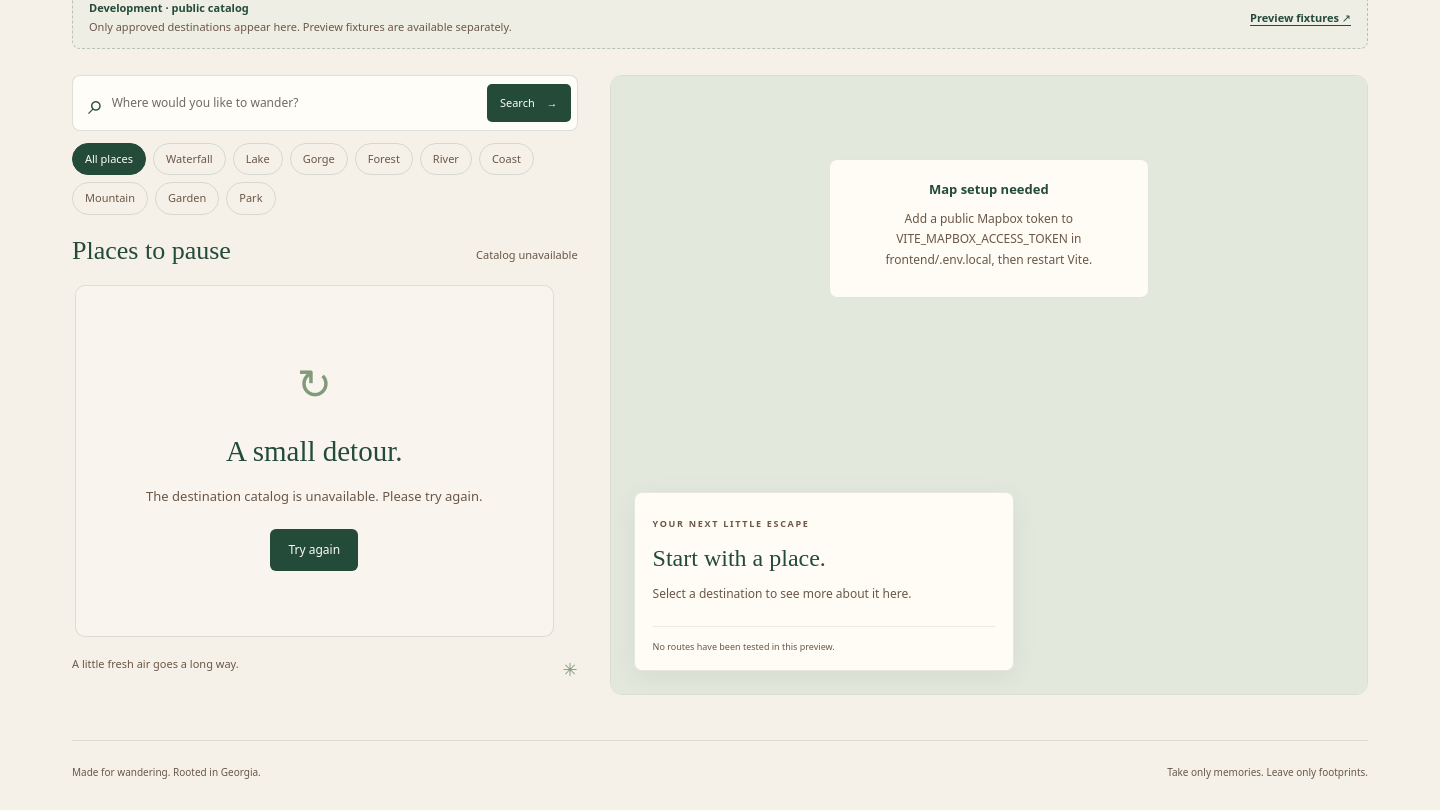
Explore › shows loading and error states, then retries successfully
The width and height of the screenshot is (1440, 810).
(page scrolled)
Expected: the message named "Loading destinations" is shown, 75,285 -> 554,637
Expected: the heading "A small detour." is shown, 226,435 -> 402,467
Click the button "Try again" at x=314, y=550, box 270,529 -> 358,571
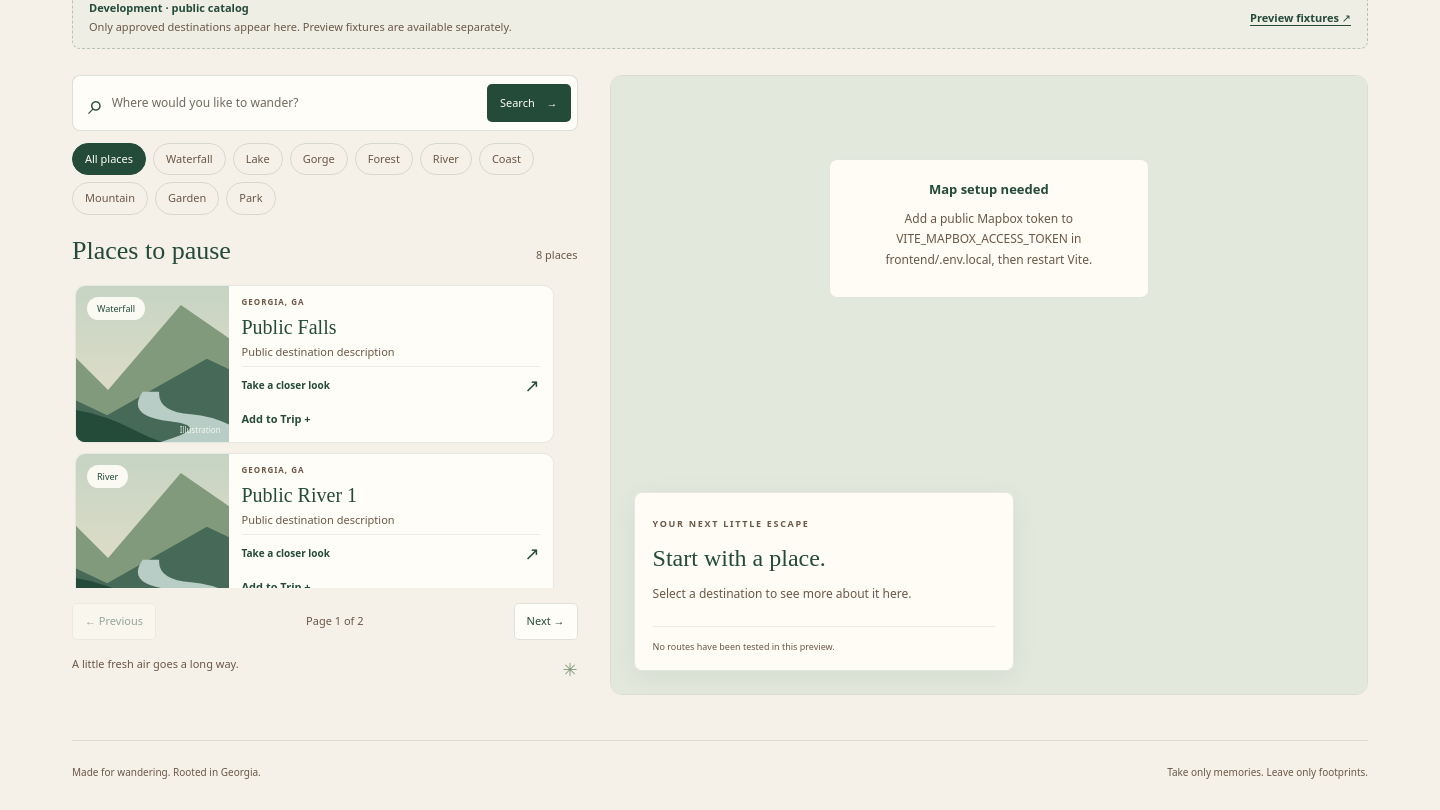
Now the heading "Public Falls" is shown, box 242,316 -> 336,338
